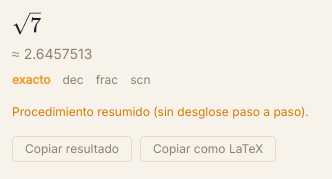
Test: ResultPanel › Fase 2.5 — selector de formato dec/frac/scn/exacto › formato 'frac' NO fabrica una fracción cuando el resultado no es exacto (ej. sqrt(7))
Click the button "frac" at (107, 80), box [96,72,118,88]
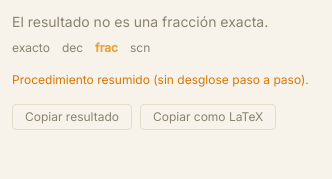
Expected: the text "El resultado no es una fracción exacta." is shown, [12,13,268,30]
